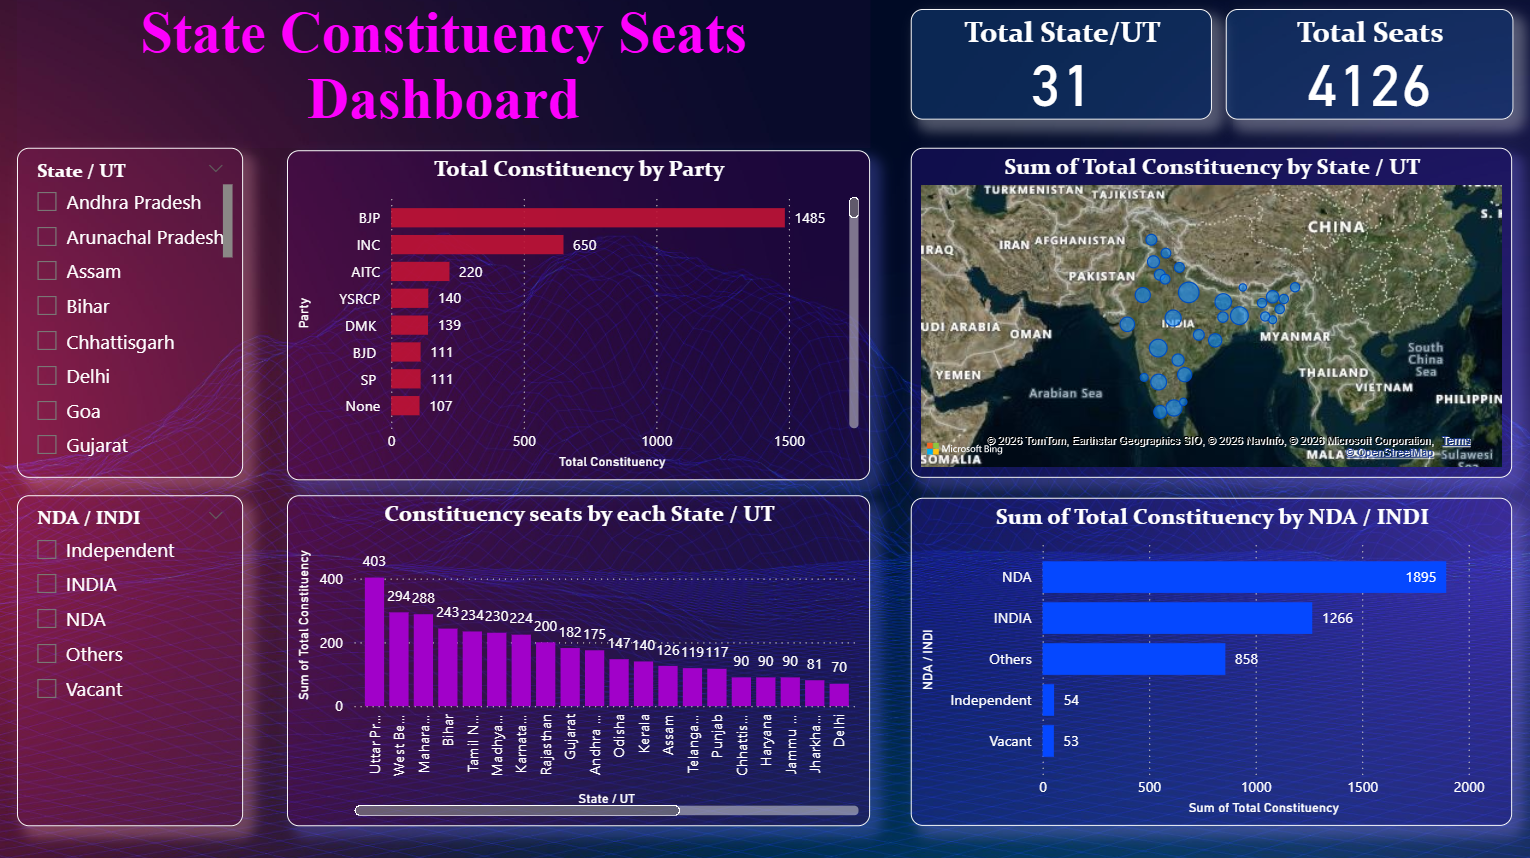

The page's visual inventory and layout, read from the dashboard file:
{"tool":"powerbi","page":{"name":"Page 1","canvas":[1280,720],"ordinal":0},"visuals":[{"type":"card","title":"Total State/UT","fields":{"Values":["Count(Data.State / UT)"]},"box":[760,12.9,250.6,91.8],"z":0},{"type":"card","title":"Total Seats","fields":{"Values":["Sum(Data.Total Constituency)"]},"box":[1021.2,12.9,238.8,91.8],"z":1000},{"type":"columnChart","title":"Constituency seats by each State / UT","fields":{"Category":["Data.State / UT"],"Y":["Sum(Data.Total Constituency)"]},"box":[241.2,416.5,484.7,275.3],"z":2000},{"type":"map","fields":{"Category":["Data.State / UT"],"Size":["Sum(Data.Total Constituency)"]},"box":[760,128.2,500,274.1],"z":3000},{"type":"barChart","fields":{"Y":["Sum(Data.Total Constituency)"],"Category":["Data.Party"]},"box":[241.2,129.4,484.7,274.1],"z":4000},{"type":"barChart","fields":{"Y":["Sum(Data.Total Constituency)"],"Category":["Data.NDA / INDI"]},"box":[760,418.8,500,272.9],"z":5000},{"type":"slicer","fields":{"Values":["Data.State / UT"]},"box":[16.5,128.2,188.2,274.1],"z":6000},{"type":"slicer","fields":{"Values":["Data.NDA / INDI"]},"box":[16.5,416.5,188.2,275.3],"z":7000},{"type":"textbox","box":[16.3,0,709.3,127.9],"z":8000}]}

Visuals, with their boxes in screenshot pixels (x1, y1, x2, y2), scaled from the page's 1280x720 canvas onto the 1530x858 screenshot:
"Total State/UT" card: 908:15:1208:125
"Total Seats" card: 1221:15:1506:125
"Constituency seats by each State / UT" columnChart: 288:496:868:824
map - Data.State / UT x Sum(Data.Total Constituency): 908:153:1506:479
barChart - Sum(Data.Total Constituency) x Data.Party: 288:154:868:481
barChart - Sum(Data.Total Constituency) x Data.NDA / INDI: 908:499:1506:824
slicer - Data.State / UT: 20:153:245:479
slicer - Data.NDA / INDI: 20:496:245:824
textbox: 19:0:867:152
